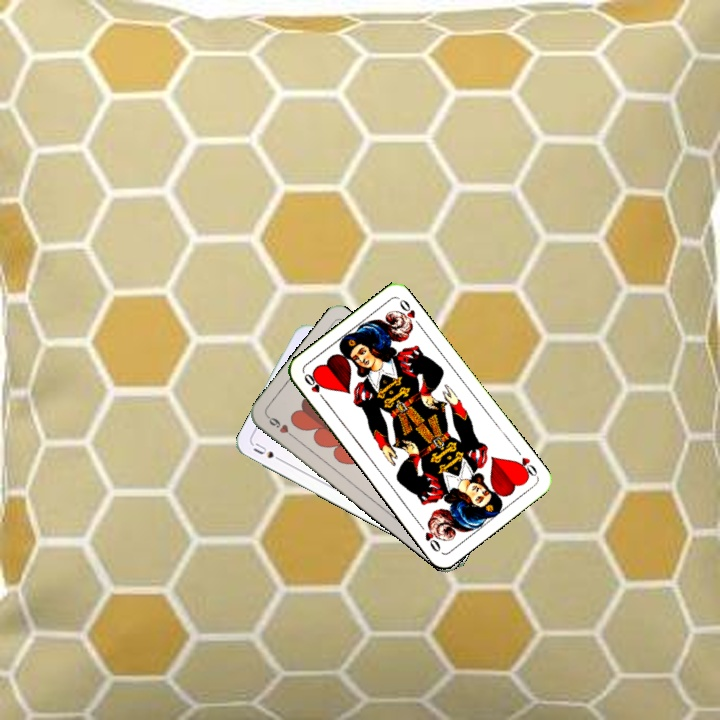H9: (263, 411, 298, 441)
HO: (511, 444, 540, 481), (300, 369, 329, 404)
SU: (249, 439, 287, 465)
